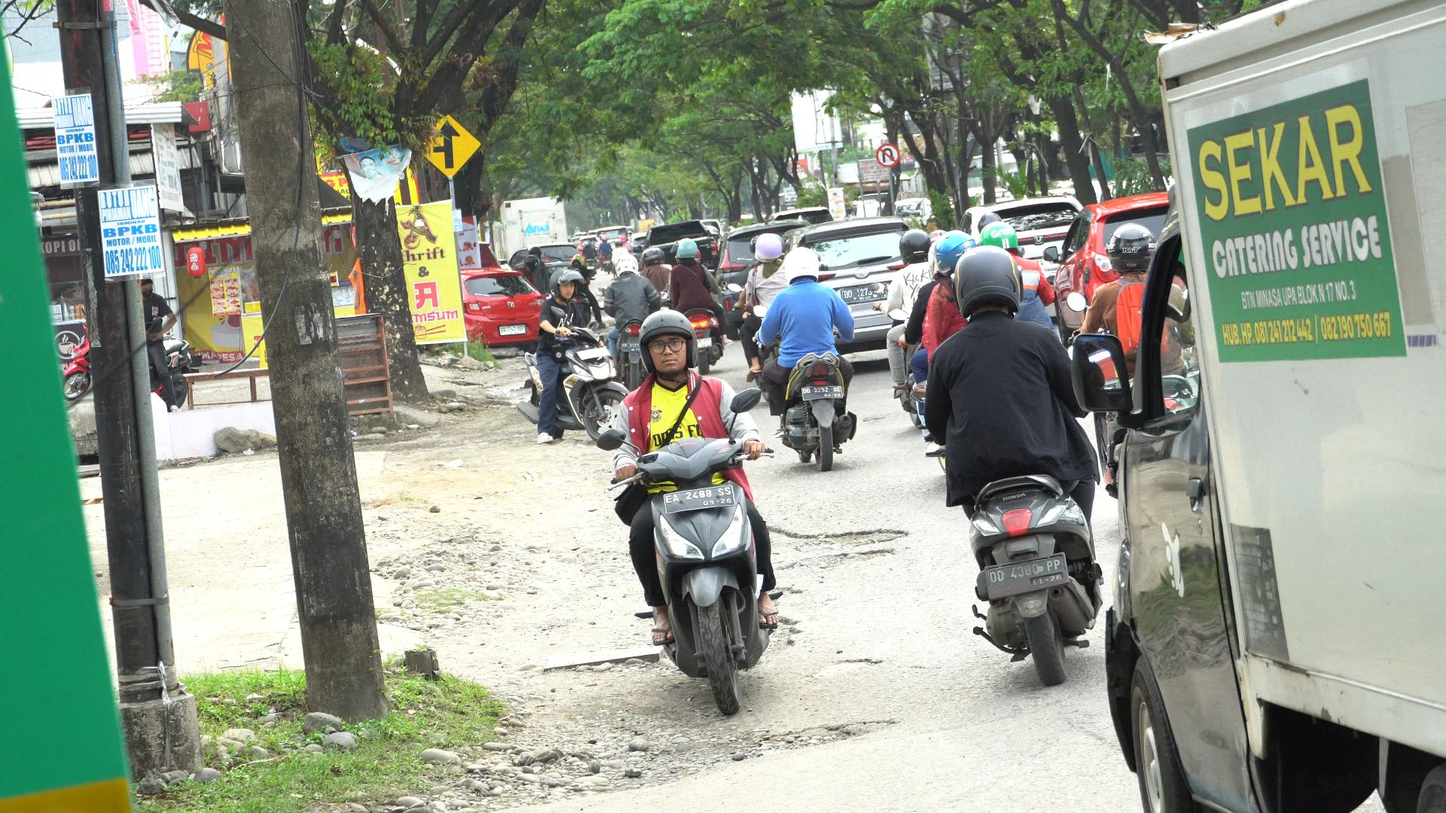number-plate: (661, 486, 737, 517)
